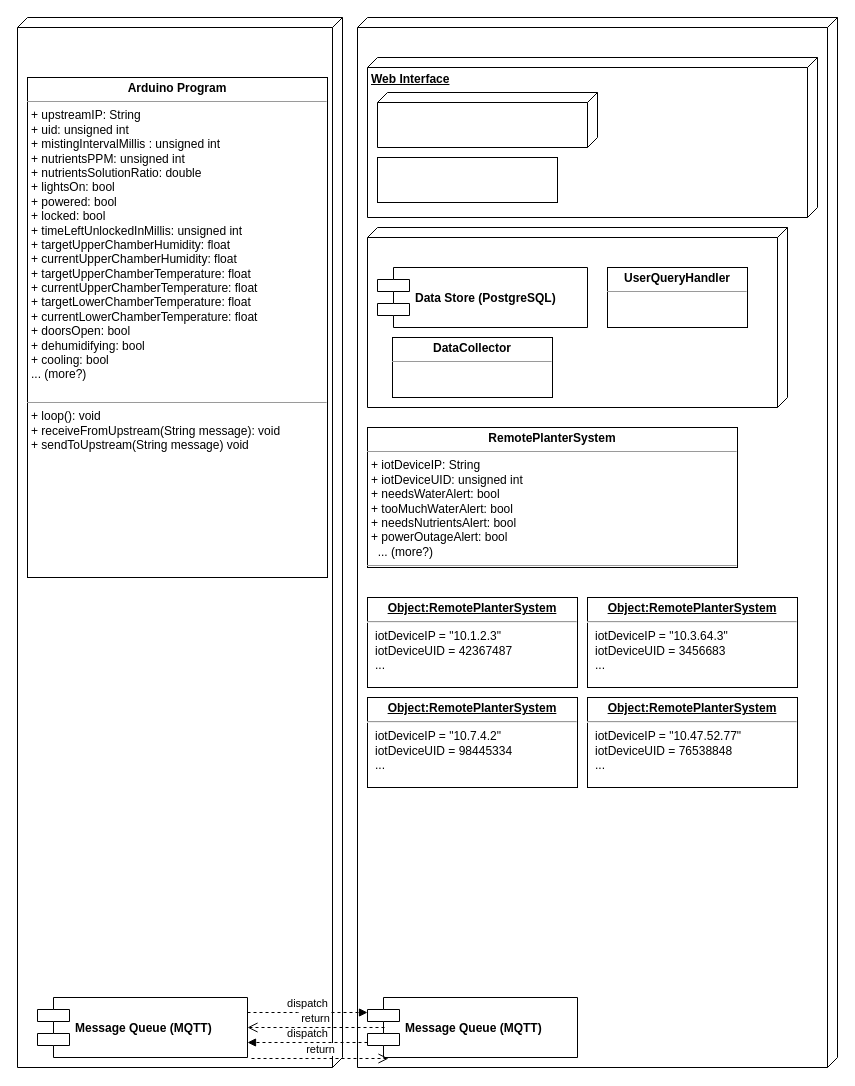
The diagram is 855 pixels wide and 1086 high, and some of its shapes have lost their labels. The shapes that lost their labels are listed below. From the top down, each one's box as (x1, y1, x2, y2) in pixels, then its label:
(376, 92, 598, 148): Servlets & JSP Environment
(376, 156, 558, 202): UpstreamHandler
(366, 226, 788, 408): Statistics Management
(16, 16, 342, 1068): Planter System (Arduino w/ ethernet shield)
(356, 16, 838, 1068): Planter Cluster Management System (Pi connected to switch)
